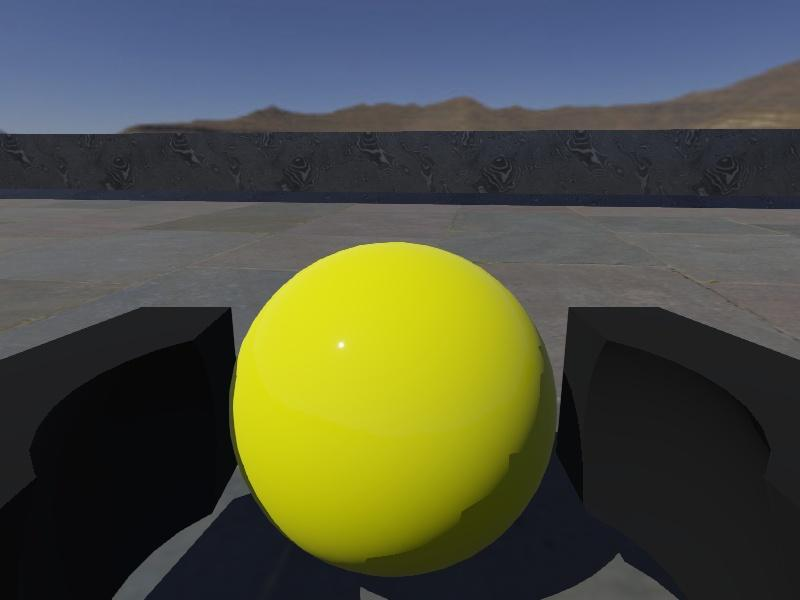yellow ball: (228, 242, 557, 578)
